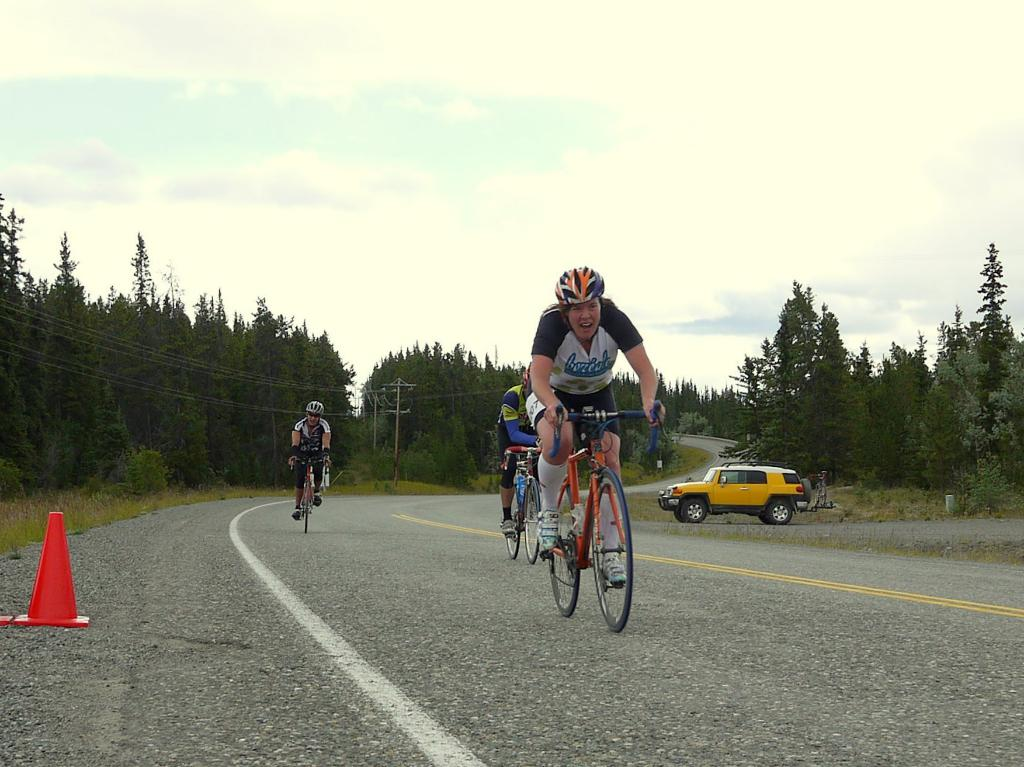Bike_toward: (519, 394, 670, 631), (283, 445, 331, 529)
